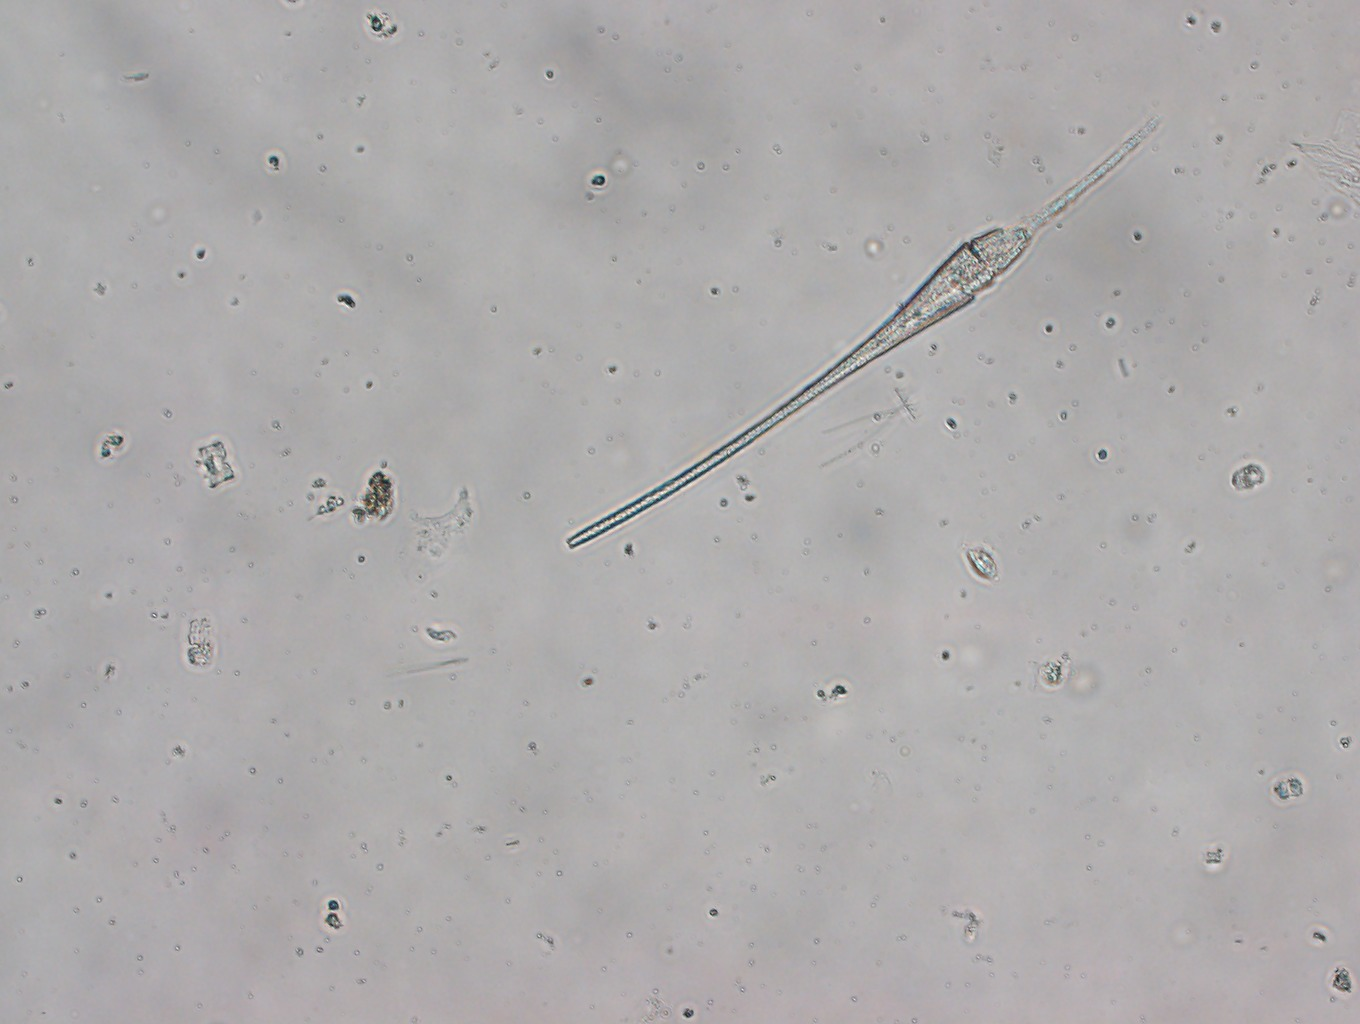ceratium fusus: (567, 115, 1166, 551)
